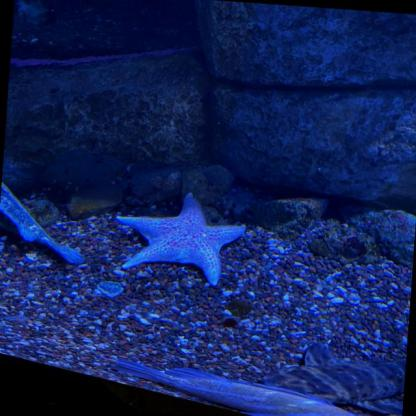fish: (114, 350, 400, 415), (0, 166, 96, 266)
starfish: (117, 194, 249, 290)
